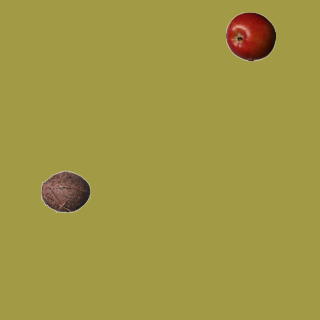Apple Braeburn: (225, 11, 275, 61)
Cocos: (40, 166, 90, 216)
